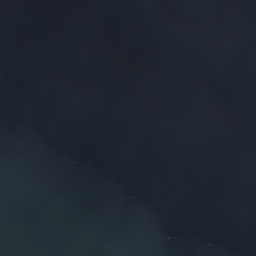Marine Debris: (166, 235, 173, 241)
